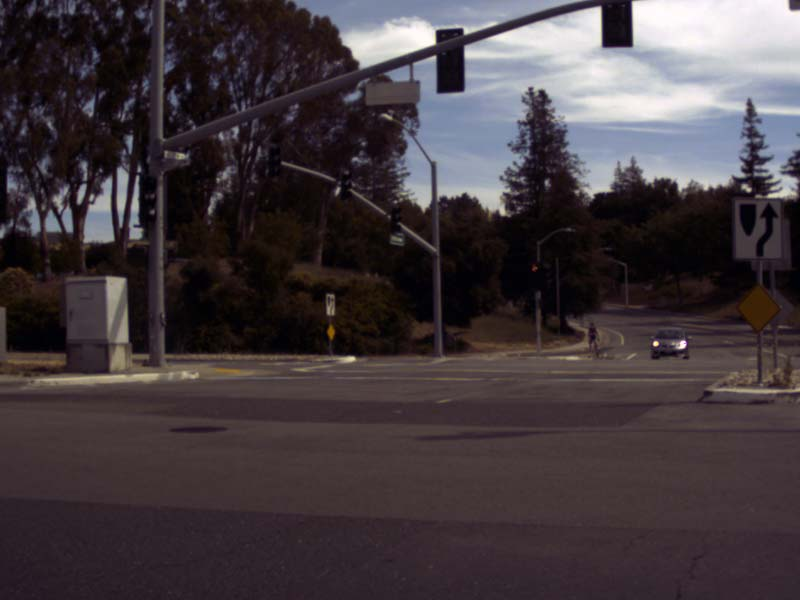Red: (527, 263, 542, 286)
